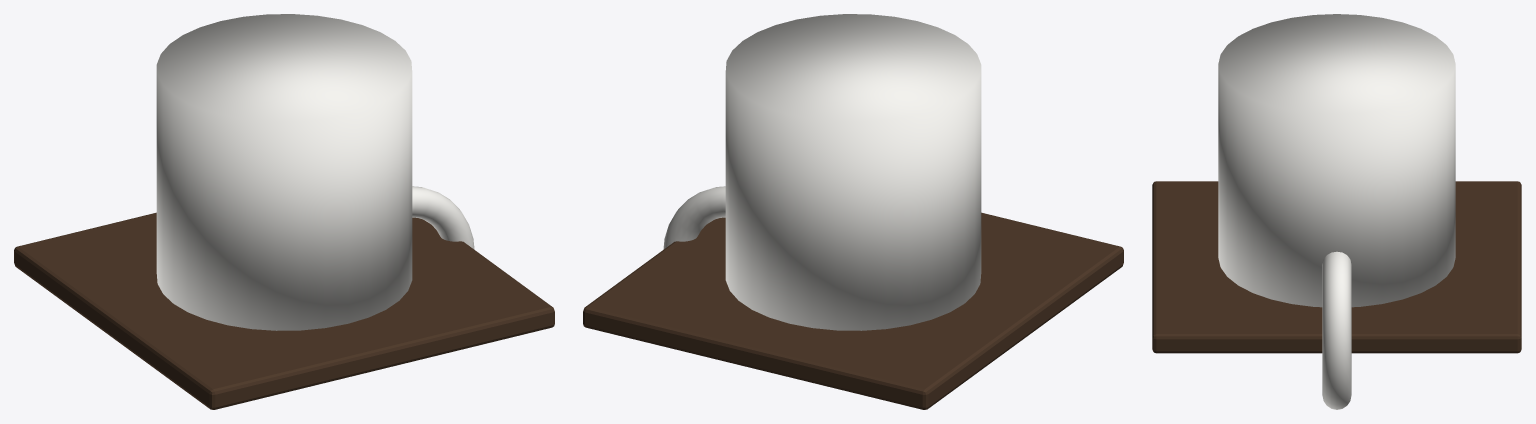
Rendered from mug_assembly.glb.
3 renders of one model, left to right at view 1: azimuth 30°, elevation 25°; view 2: azimuth 150°, elevation 25°; view 3: azimuth 270°, elevation 25°, orthographic. The views are drawn at different scales.
Parts seen in each view (by area): view 1: mug_body, coaster_base, mug_handle; view 2: mug_body, coaster_base, mug_handle; view 3: mug_body, coaster_base, mug_handle.
Boxes of the visible parts, x1=… form: mug_body: x1=156, y1=14, x2=412, y2=330; coaster_base: x1=14, y1=212, x2=554, y2=409; mug_handle: x1=412, y1=186, x2=474, y2=249; mug_body: x1=725, y1=14, x2=981, y2=330; coaster_base: x1=583, y1=212, x2=1123, y2=409; mug_handle: x1=663, y1=186, x2=725, y2=249; mug_body: x1=1218, y1=14, x2=1455, y2=307; coaster_base: x1=1152, y1=181, x2=1521, y2=353; mug_handle: x1=1322, y1=251, x2=1351, y2=409.
Bounding box in the file's own units: 1.46 × 1.21 × 1.4.
